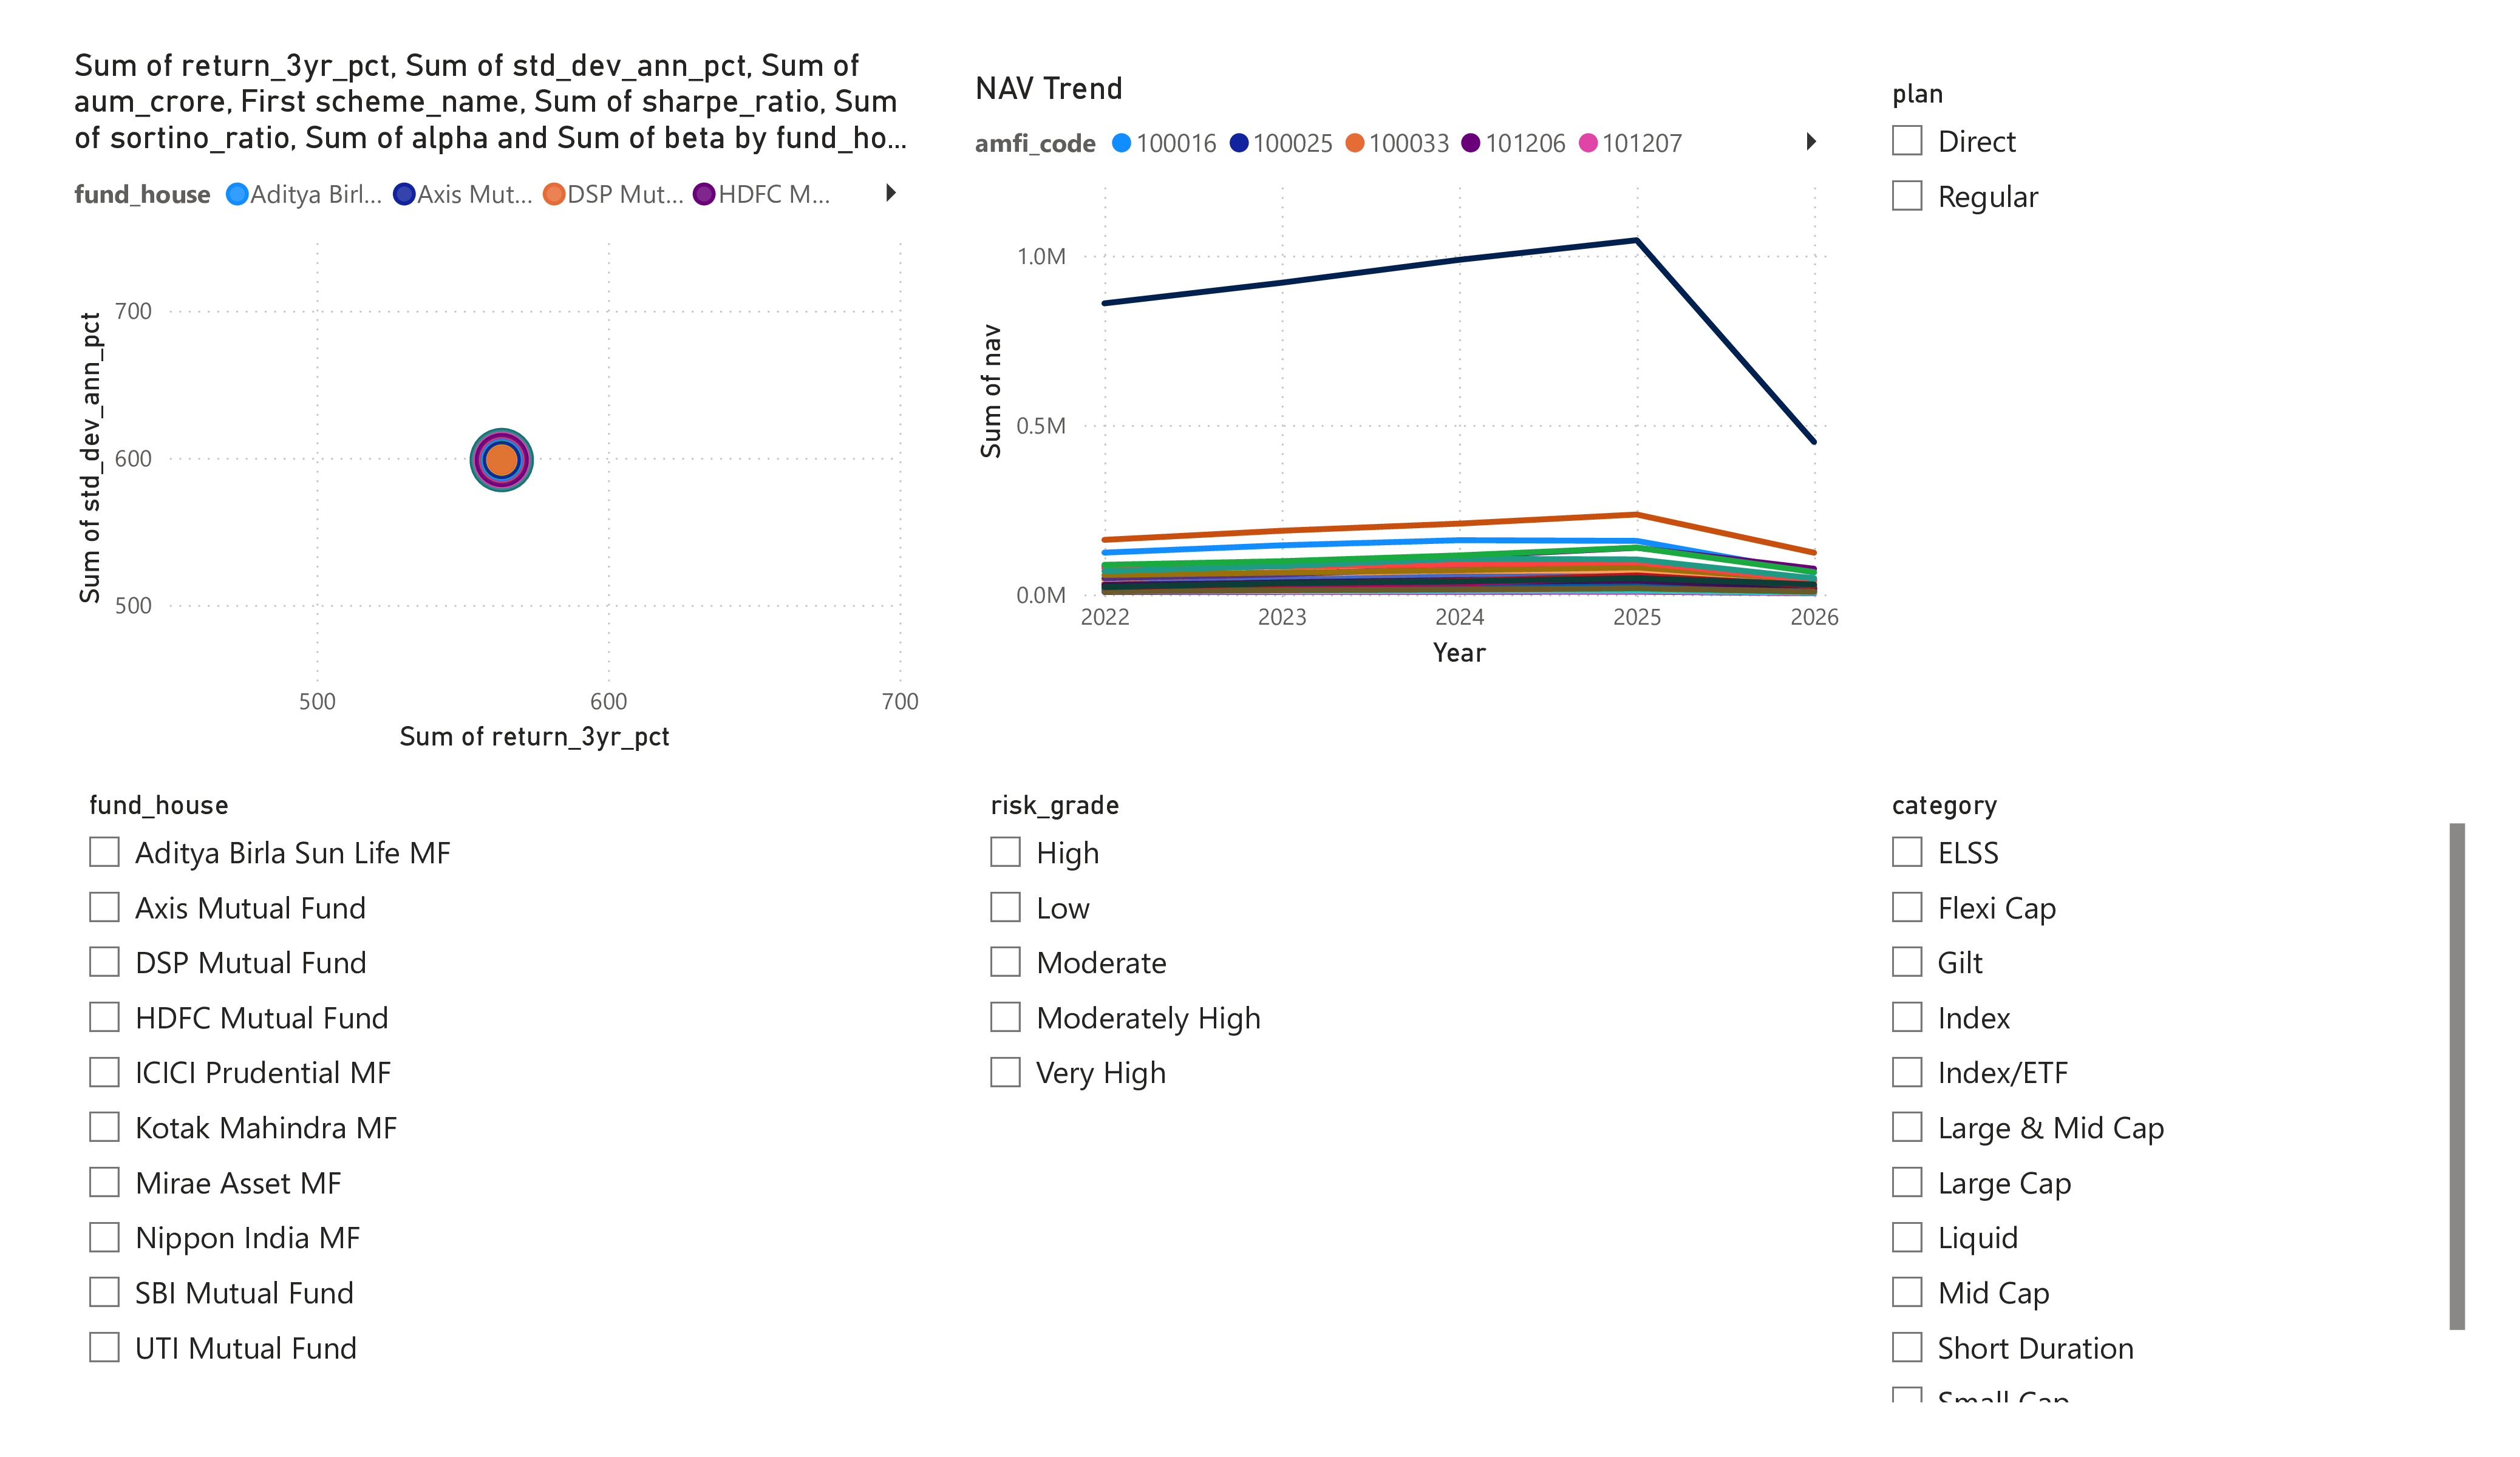

This screenshot's page, from the dashboard's own definition file:
{"tool":"powerbi","page":{"name":"Fund Performance","canvas":[1280,720],"ordinal":1},"visuals":[{"type":"scatterChart","fields":{"X":["Sum(scheme_performance_cleaned.return_3yr_pct)"],"Y":["Sum(scheme_performance_cleaned.std_dev_ann_pct)"],"Size":["Sum(aum_history.aum_crore)"],"Series":["aum_history.fund_house"]},"box":[10,0,455.2,376.8],"z":0},{"type":"lineChart","title":"NAV Trend","fields":{"Category":["nav_history_cleaned.date.Variation.Date Hierarchy.Year","nav_history_cleaned.date.Variation.Date Hierarchy.Quarter","nav_history_cleaned.date.Variation.Date Hierarchy.Month","nav_history_cleaned.date.Variation.Date Hierarchy.Day"],"Y":["Sum(nav_history_cleaned.nav)"],"Series":["nav_history_cleaned.amfi_code"]},"box":[485.2,11.7,465.2,320.1],"z":1},{"type":"slicer","fields":{"Values":["aum_history.fund_house"]},"box":[10,387,455,333],"z":2},{"type":"slicer","fields":{"Values":["scheme_performance_cleaned.risk_grade"]},"box":[485,387,465,333],"z":3},{"type":"slicer","fields":{"Values":["scheme_performance_cleaned.plan"]},"box":[960,12,320,320],"z":4},{"type":"slicer","fields":{"Values":["scheme_performance_cleaned.category"]},"box":[960,387,320,333],"z":5}]}

Visuals, with their boxes on the page's 1280x720 design canvas (x1, y1, x2, y2). These are canvas units, not pixel positions in the 2520x1457 screenshot, which may show the page scaled, cropped or inside an application window:
scatterChart - Sum(scheme_performance_cleaned.return_3yr_pct) x Sum(scheme_performance_cleaned.std_dev_ann_pct): x1=10, y1=0, x2=465, y2=377
"NAV Trend" lineChart: x1=485, y1=12, x2=950, y2=332
slicer - aum_history.fund_house: x1=10, y1=387, x2=465, y2=720
slicer - scheme_performance_cleaned.risk_grade: x1=485, y1=387, x2=950, y2=720
slicer - scheme_performance_cleaned.plan: x1=960, y1=12, x2=1280, y2=332
slicer - scheme_performance_cleaned.category: x1=960, y1=387, x2=1280, y2=720
